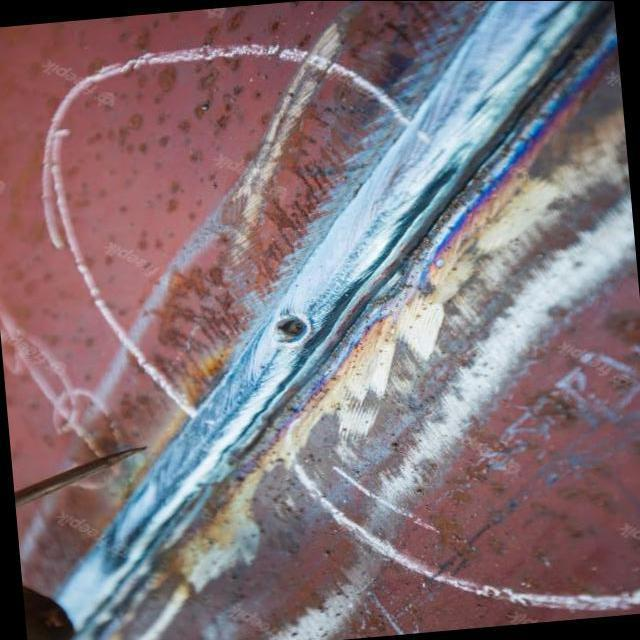defect: (271, 311, 313, 346)
